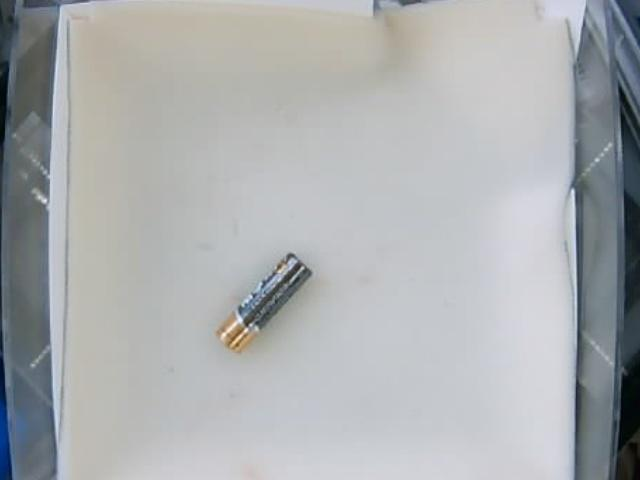Battery: (212, 252, 311, 352)
